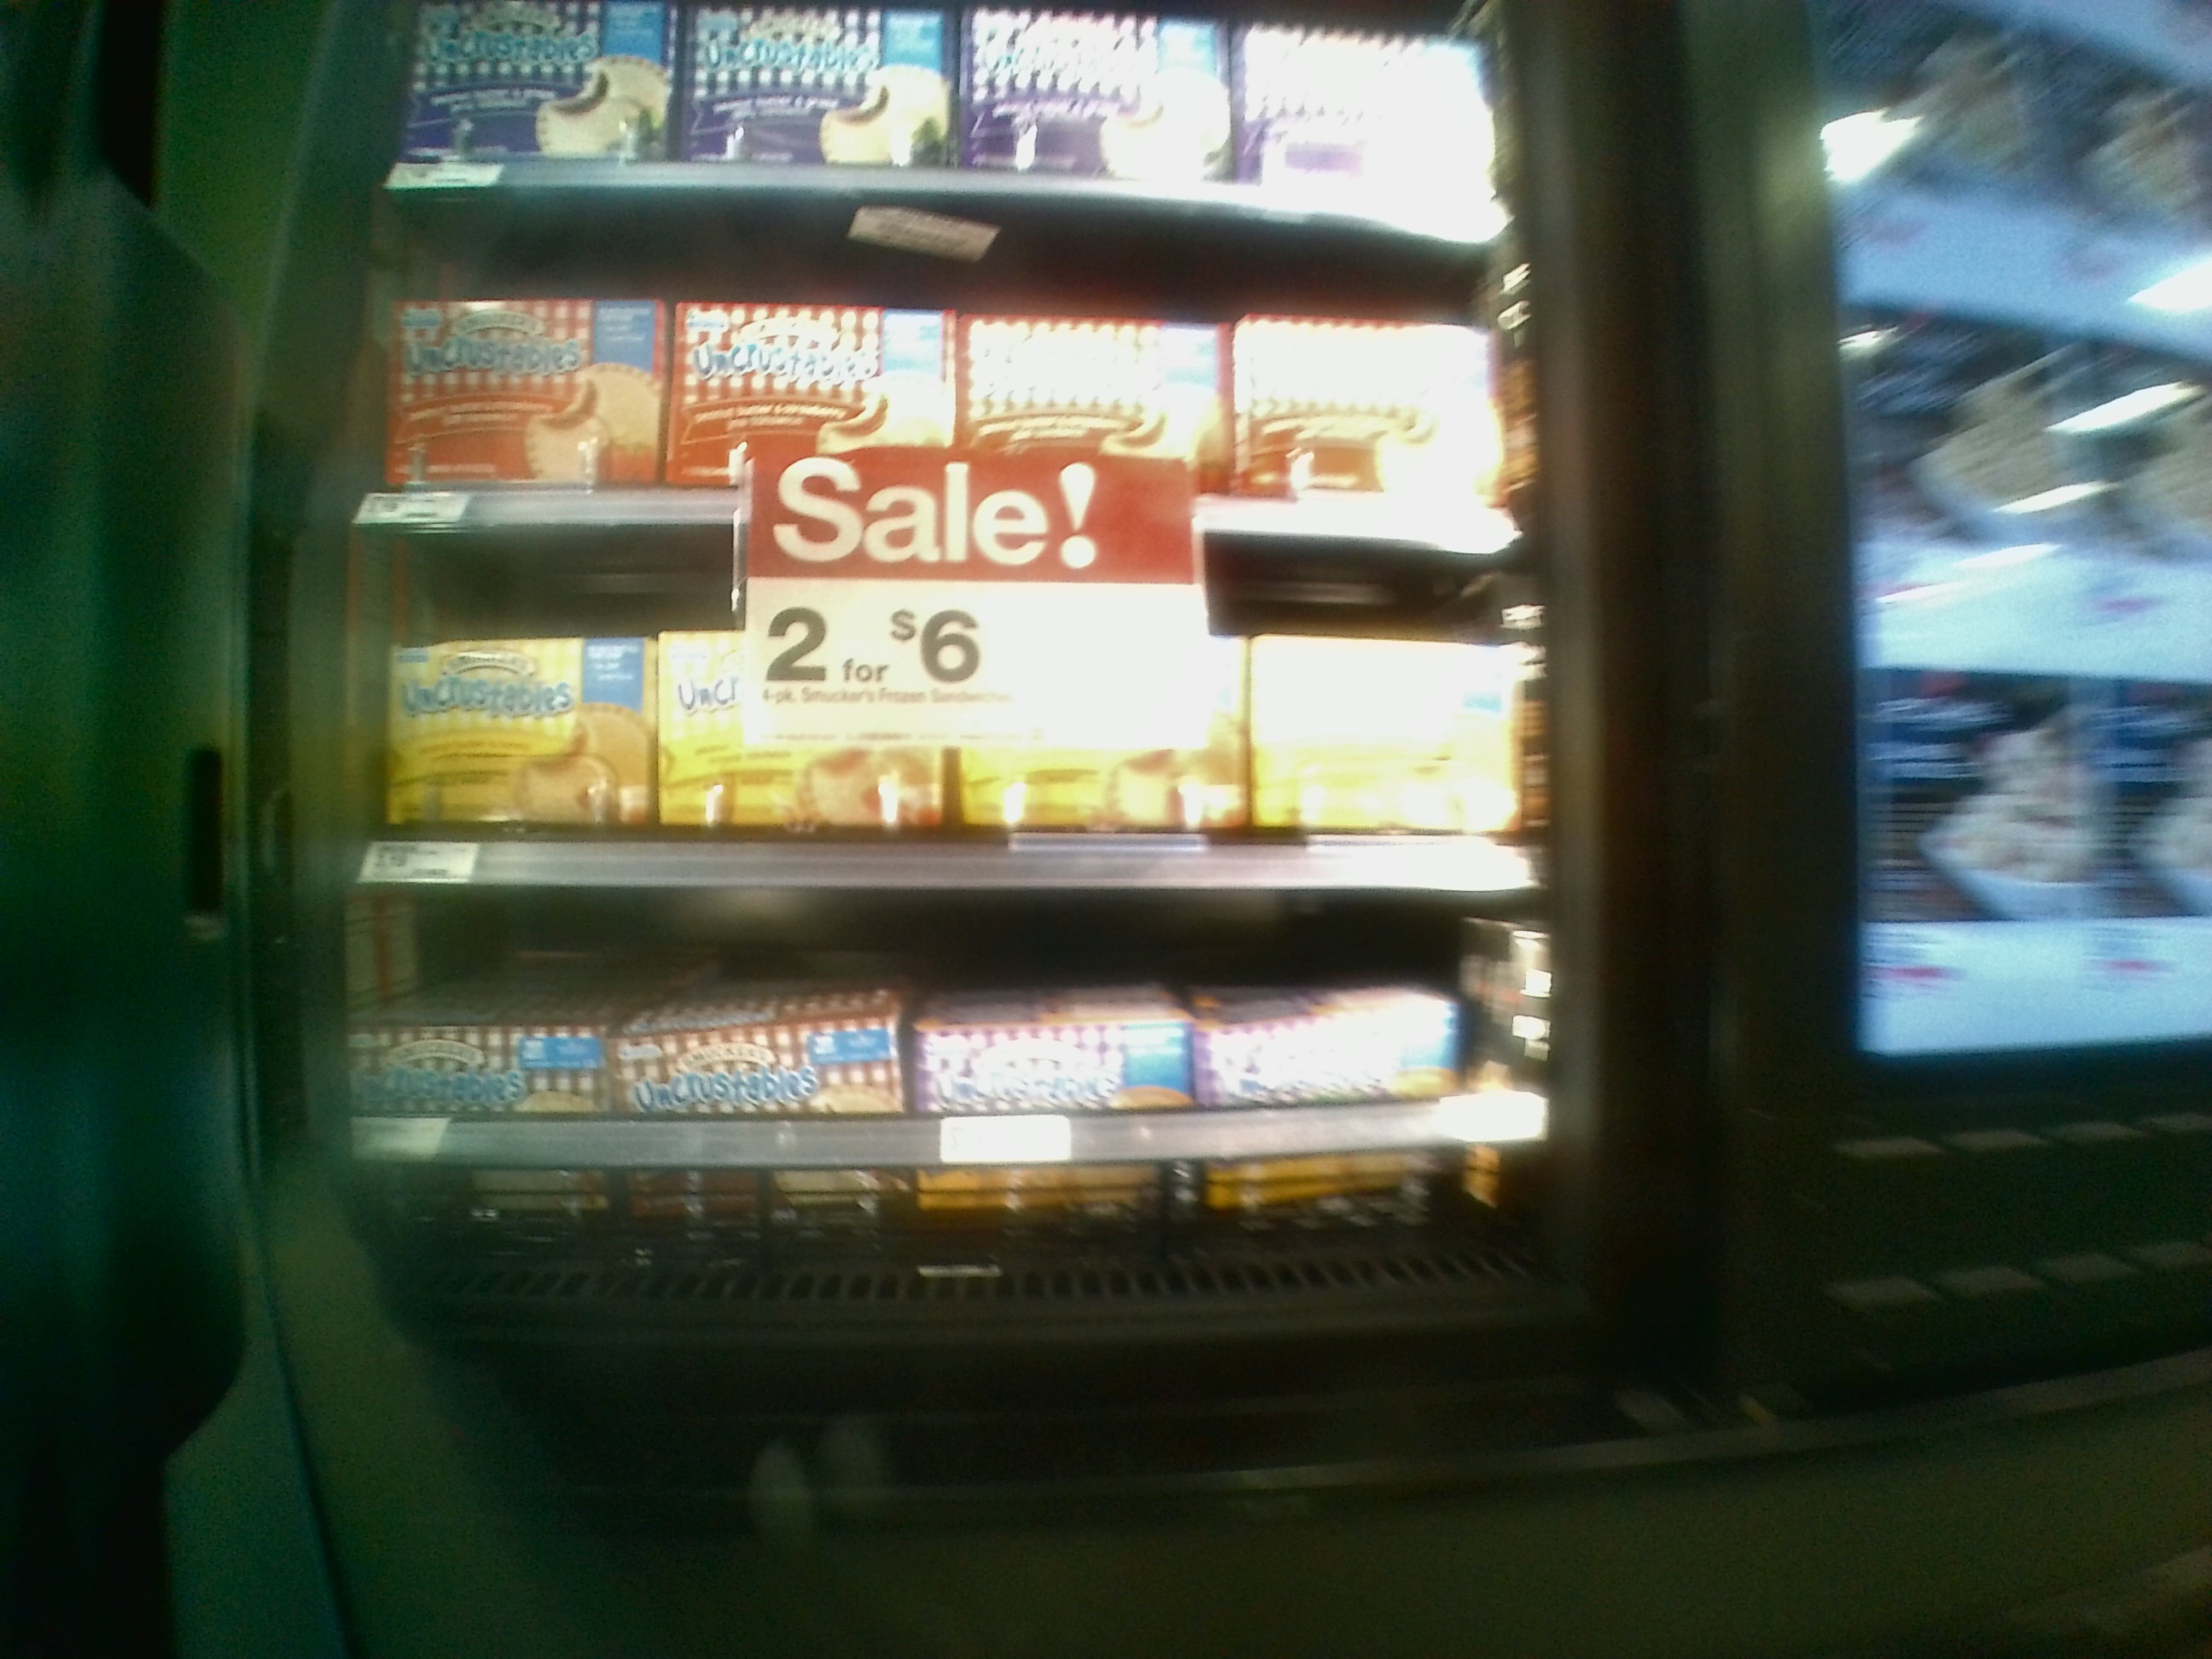shelf: (350, 514, 1536, 870), (388, 188, 1517, 528), (334, 854, 1555, 1145)
